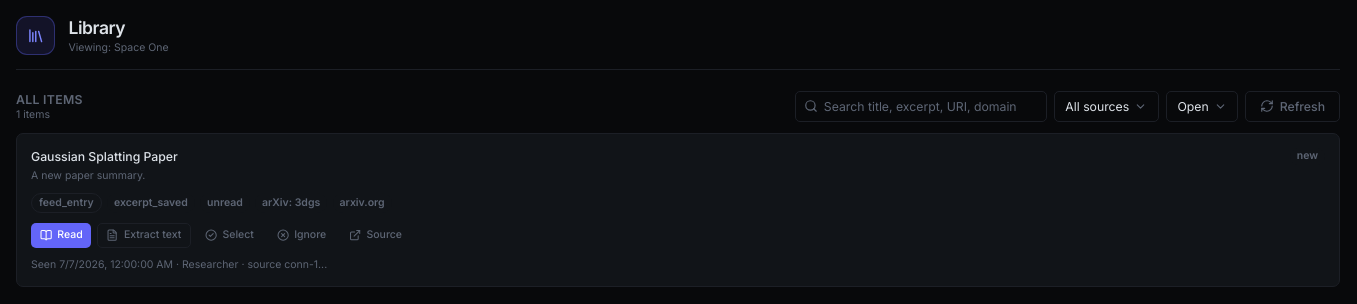
Test: LibraryPage › runs text extraction from the source item reading stream
The image size is (1357, 304).
Click the button with aria-label "extract text gaussian splatting paper".
click(144, 235)  # box [97,223,191,248]
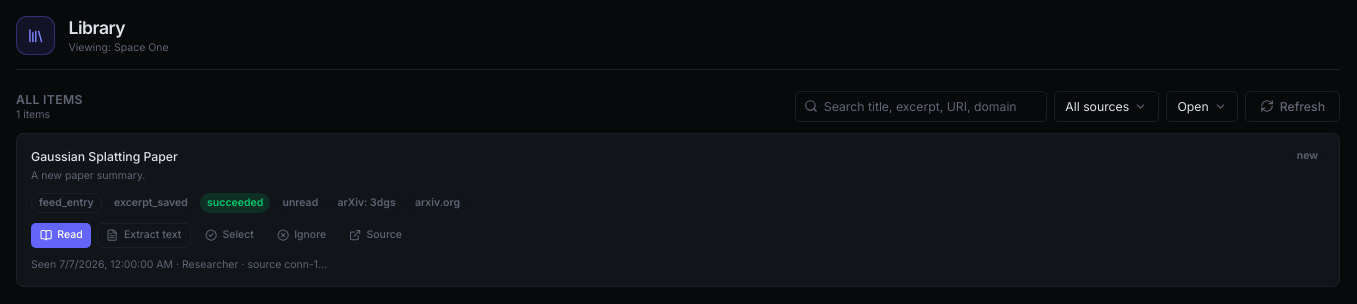
Result: the text "succeeded" is shown at [200,193,270,212]
